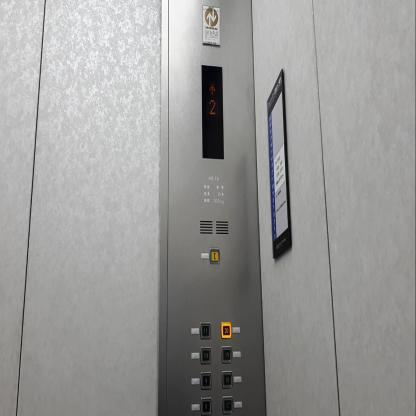10: (200, 346, 212, 365)
11: (200, 321, 212, 340)
17: (222, 395, 233, 415)
18: (221, 369, 233, 389)
19: (221, 344, 232, 364)
20: (220, 320, 232, 340)
8: (200, 396, 212, 415)
9: (200, 370, 212, 390)
call: (208, 246, 221, 265)
led: (200, 62, 225, 161)
